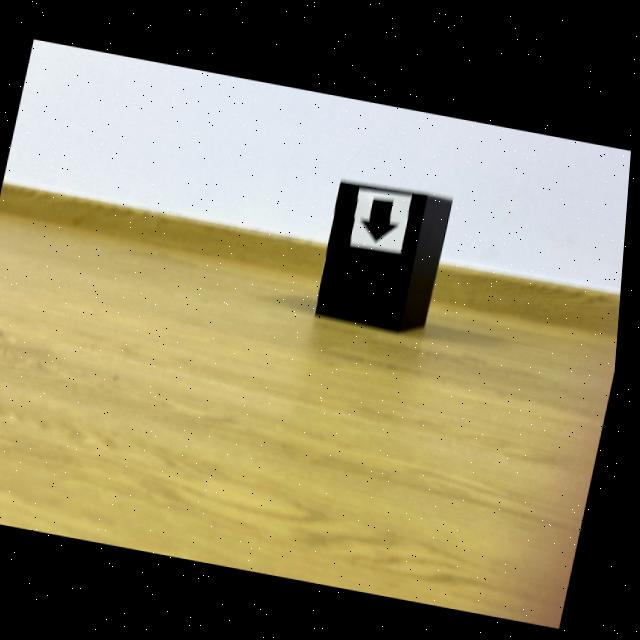DOWN: (366, 196, 399, 238)
